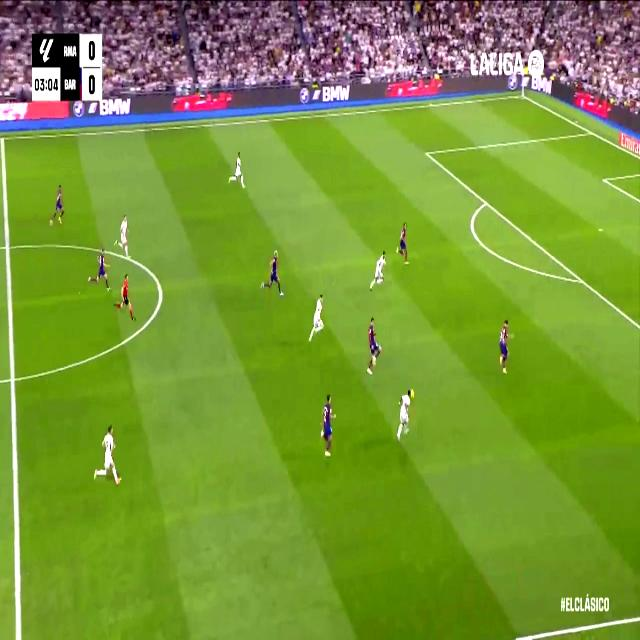bigarea_top_inner: (423, 144, 430, 160)
bigarea_top_outter: (586, 124, 594, 138)
bottom_arc_area_intersection: (576, 270, 586, 290)
corner: (519, 90, 527, 101)
halfcircle_bottom: (6, 360, 20, 397)
halfcircle_top: (2, 232, 15, 261)
smallarea_top_inner: (601, 173, 607, 186)
top_arc_area_intersection: (482, 193, 490, 211)
